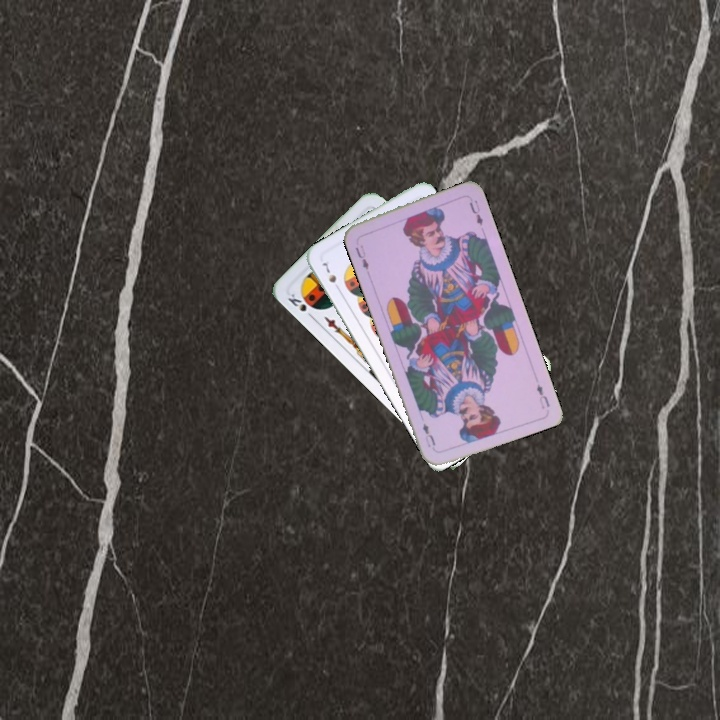EU: (351, 241, 371, 272), (533, 380, 552, 411)
S7: (318, 258, 343, 294)
SK: (284, 289, 317, 322)
